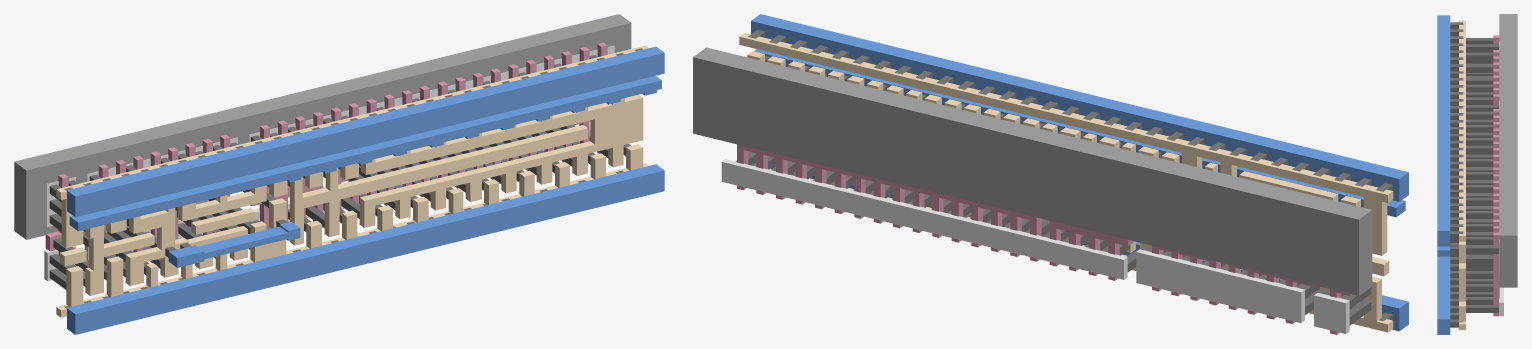
The model's file is sky130_fd_sc_hd__lpflow_isobufsrckapwr_16.gds.gltf.
The picture shows the model from 3 angles, left to right: view 1: azimuth 30°, elevation 25°; view 2: azimuth 150°, elevation 25°; view 3: azimuth 270°, elevation 25°; orthographic projection. The views are drawn at different scales.
Visible parts, largest first — view 1: sky130_fd_sc_hd__lpflow_isobufsrckapwr_16_met1, sky130_fd_sc_hd__lpflow_isobufsrckapwr_16_li1, sky130_fd_sc_hd__lpflow_isobufsrckapwr_16_nwell, sky130_fd_sc_hd__lpflow_isobufsrckapwr_16_licon, sky130_fd_sc_hd__lpflow_isobufsrckapwr_16_poly, sky130_fd_sc_hd__lpflow_isobufsrckapwr_16_diff, sky130_fd_sc_hd__lpflow_isobufsrckapwr_16_mcon; view 2: sky130_fd_sc_hd__lpflow_isobufsrckapwr_16_nwell, sky130_fd_sc_hd__lpflow_isobufsrckapwr_16_met1, sky130_fd_sc_hd__lpflow_isobufsrckapwr_16_diff, sky130_fd_sc_hd__lpflow_isobufsrckapwr_16_li1, sky130_fd_sc_hd__lpflow_isobufsrckapwr_16_poly, sky130_fd_sc_hd__lpflow_isobufsrckapwr_16_mcon, sky130_fd_sc_hd__lpflow_isobufsrckapwr_16_licon; view 3: sky130_fd_sc_hd__lpflow_isobufsrckapwr_16_licon, sky130_fd_sc_hd__lpflow_isobufsrckapwr_16_nwell, sky130_fd_sc_hd__lpflow_isobufsrckapwr_16_met1, sky130_fd_sc_hd__lpflow_isobufsrckapwr_16_mcon, sky130_fd_sc_hd__lpflow_isobufsrckapwr_16_li1, sky130_fd_sc_hd__lpflow_isobufsrckapwr_16_poly, sky130_fd_sc_hd__lpflow_isobufsrckapwr_16_diff.
Part boxes in pixels (x1,y1,x2,y2): sky130_fd_sc_hd__lpflow_isobufsrckapwr_16_met1: [67, 46, 664, 334]; sky130_fd_sc_hd__lpflow_isobufsrckapwr_16_li1: [56, 45, 648, 317]; sky130_fd_sc_hd__lpflow_isobufsrckapwr_16_nwell: [14, 14, 631, 239]; sky130_fd_sc_hd__lpflow_isobufsrckapwr_16_licon: [49, 55, 630, 289]; sky130_fd_sc_hd__lpflow_isobufsrckapwr_16_poly: [45, 42, 607, 274]; sky130_fd_sc_hd__lpflow_isobufsrckapwr_16_diff: [44, 45, 614, 281]; sky130_fd_sc_hd__lpflow_isobufsrckapwr_16_mcon: [64, 48, 642, 308]; sky130_fd_sc_hd__lpflow_isobufsrckapwr_16_nwell: [693, 47, 1372, 295]; sky130_fd_sc_hd__lpflow_isobufsrckapwr_16_met1: [751, 14, 1408, 331]; sky130_fd_sc_hd__lpflow_isobufsrckapwr_16_diff: [721, 159, 1349, 333]; sky130_fd_sc_hd__lpflow_isobufsrckapwr_16_li1: [739, 33, 1393, 332]; sky130_fd_sc_hd__lpflow_isobufsrckapwr_16_poly: [737, 144, 1351, 334]; sky130_fd_sc_hd__lpflow_isobufsrckapwr_16_mcon: [748, 30, 1392, 321]; sky130_fd_sc_hd__lpflow_isobufsrckapwr_16_licon: [735, 134, 1371, 325]; sky130_fd_sc_hd__lpflow_isobufsrckapwr_16_licon: [1466, 38, 1498, 312]; sky130_fd_sc_hd__lpflow_isobufsrckapwr_16_nwell: [1499, 14, 1517, 287]; sky130_fd_sc_hd__lpflow_isobufsrckapwr_16_met1: [1437, 15, 1450, 334]; sky130_fd_sc_hd__lpflow_isobufsrckapwr_16_mcon: [1450, 22, 1463, 327]; sky130_fd_sc_hd__lpflow_isobufsrckapwr_16_li1: [1459, 20, 1465, 329]; sky130_fd_sc_hd__lpflow_isobufsrckapwr_16_poly: [1493, 35, 1499, 316]; sky130_fd_sc_hd__lpflow_isobufsrckapwr_16_diff: [1499, 42, 1503, 316].
Size of the model in its own units: 14.64 by 3.2 by 2.24.
